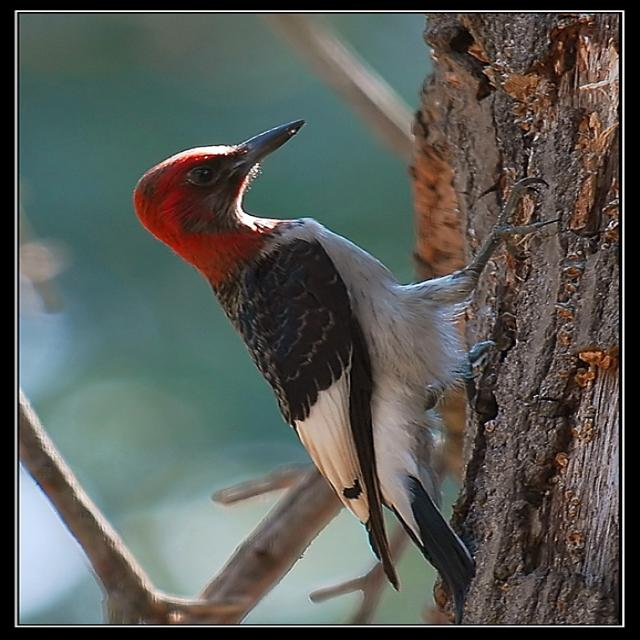bird: (109, 115, 516, 603)
